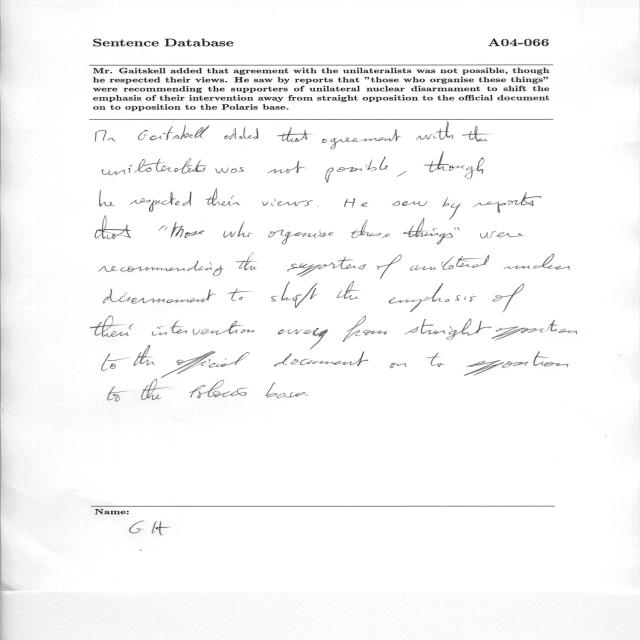word: (464, 351, 569, 376), (389, 283, 476, 312), (99, 260, 225, 276), (405, 318, 492, 340), (102, 158, 207, 175), (491, 320, 577, 340), (325, 156, 388, 183), (103, 289, 216, 304), (424, 151, 484, 179), (322, 129, 401, 149), (287, 257, 366, 277), (152, 321, 255, 336), (403, 218, 460, 245), (274, 351, 368, 367), (161, 351, 216, 378), (473, 192, 542, 213), (102, 345, 155, 371), (271, 281, 318, 308), (410, 255, 489, 271), (129, 192, 192, 212), (342, 316, 387, 342), (504, 253, 571, 270), (278, 328, 328, 350), (138, 125, 210, 140), (189, 380, 248, 398), (268, 230, 333, 245), (90, 316, 134, 337), (493, 284, 525, 312), (95, 216, 131, 239), (416, 121, 453, 140), (351, 220, 390, 238), (209, 352, 250, 368), (376, 255, 402, 280), (266, 383, 306, 399), (141, 379, 169, 400), (206, 189, 240, 206), (171, 222, 205, 238), (277, 127, 313, 142), (268, 161, 306, 174), (223, 222, 253, 238), (224, 127, 259, 140), (442, 197, 461, 220), (462, 126, 489, 142), (337, 281, 359, 300), (262, 199, 313, 207), (236, 253, 257, 270), (108, 386, 129, 402), (228, 289, 251, 301), (427, 353, 445, 368), (344, 198, 369, 208), (96, 130, 116, 142), (100, 190, 115, 206), (215, 167, 244, 174), (392, 201, 428, 206), (496, 232, 525, 237), (480, 231, 496, 239), (390, 363, 407, 369), (396, 171, 407, 177), (159, 225, 168, 231), (305, 394, 308, 396), (317, 206, 319, 207)
